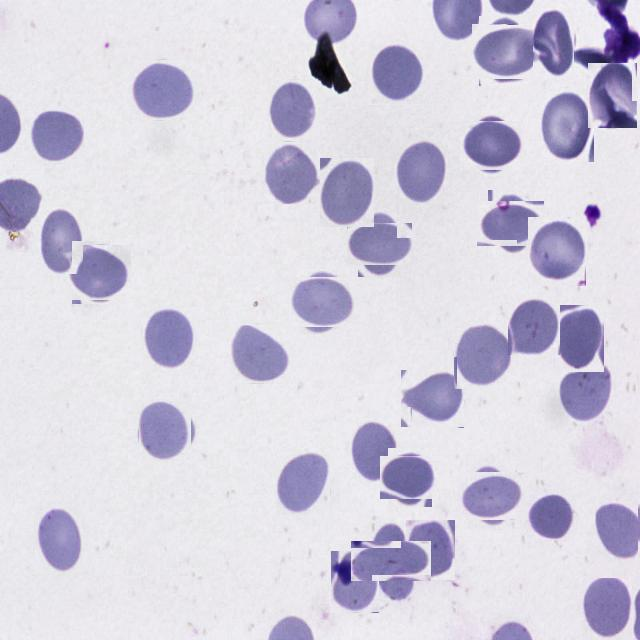red blood cell: (130, 58, 193, 122), (528, 217, 586, 286), (453, 323, 511, 390), (541, 89, 594, 162), (476, 20, 538, 82), (320, 158, 374, 227), (400, 370, 464, 428), (361, 531, 422, 591), (232, 324, 292, 384), (70, 243, 130, 302), (276, 452, 330, 517), (264, 142, 320, 204), (142, 307, 195, 372), (396, 140, 448, 206), (553, 305, 604, 372), (369, 43, 424, 105), (292, 273, 350, 331), (462, 466, 520, 524), (560, 361, 614, 423), (34, 506, 82, 575), (588, 63, 638, 128), (482, 196, 540, 252), (136, 402, 194, 458), (350, 418, 398, 484), (28, 108, 84, 164), (464, 118, 520, 174), (582, 578, 632, 640), (330, 551, 379, 613), (534, 8, 576, 80), (352, 218, 407, 272), (508, 298, 560, 355), (406, 520, 455, 580), (268, 80, 318, 138), (40, 208, 83, 274), (596, 498, 640, 560), (384, 452, 436, 503), (526, 492, 575, 540)
